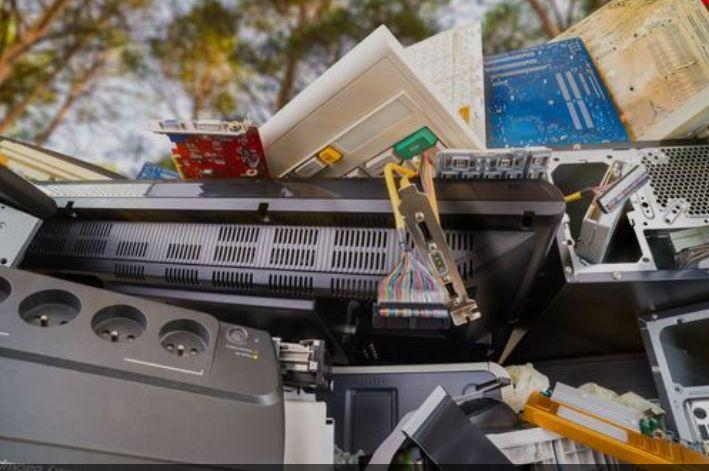electronic: (0, 263, 279, 465), (326, 363, 516, 466), (382, 155, 481, 326), (622, 150, 706, 277), (638, 301, 708, 445), (153, 118, 272, 181), (436, 148, 549, 183), (575, 192, 628, 264), (593, 162, 651, 214), (147, 117, 256, 139), (35, 181, 156, 198), (393, 127, 438, 161), (317, 146, 343, 165)
